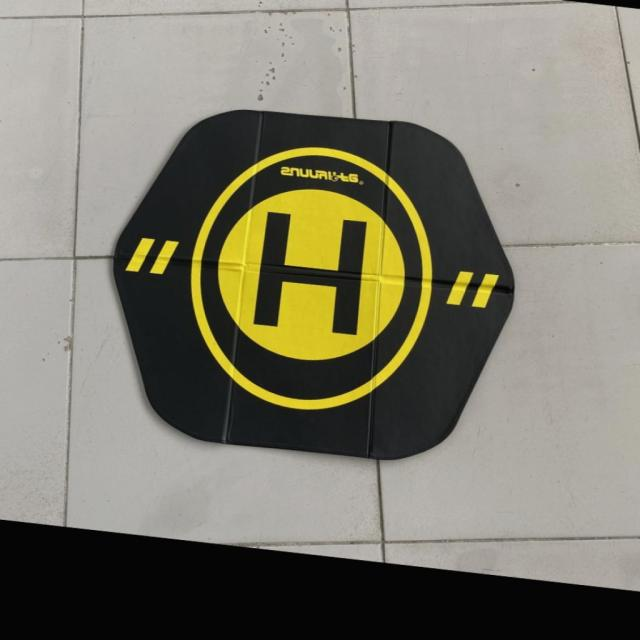helipad: (187, 141, 437, 415)
